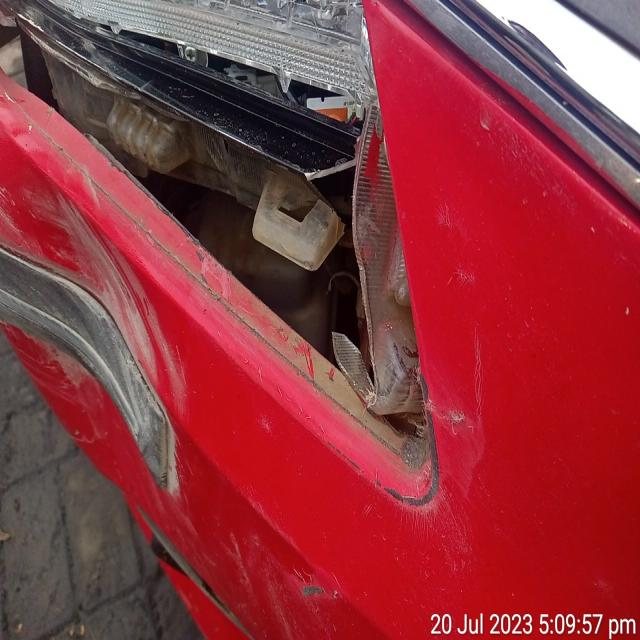damage: (0, 90, 213, 544), (361, 317, 521, 540), (266, 558, 345, 636)
